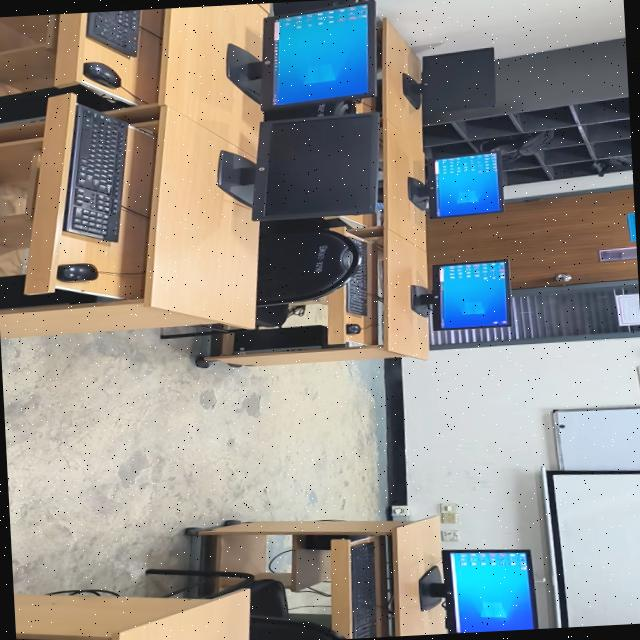Chair: (230, 569, 340, 640)
Cpu: (233, 322, 332, 356)
Keyboard: (69, 110, 126, 246), (346, 538, 390, 639), (91, 8, 146, 58), (347, 244, 370, 316)
Monitor: (222, 114, 378, 222), (224, 4, 375, 102), (426, 545, 538, 635), (408, 258, 515, 334), (402, 152, 503, 218), (402, 50, 504, 110)
Mouse: (250, 225, 360, 304), (82, 59, 125, 88), (58, 260, 102, 282), (345, 322, 364, 335)
